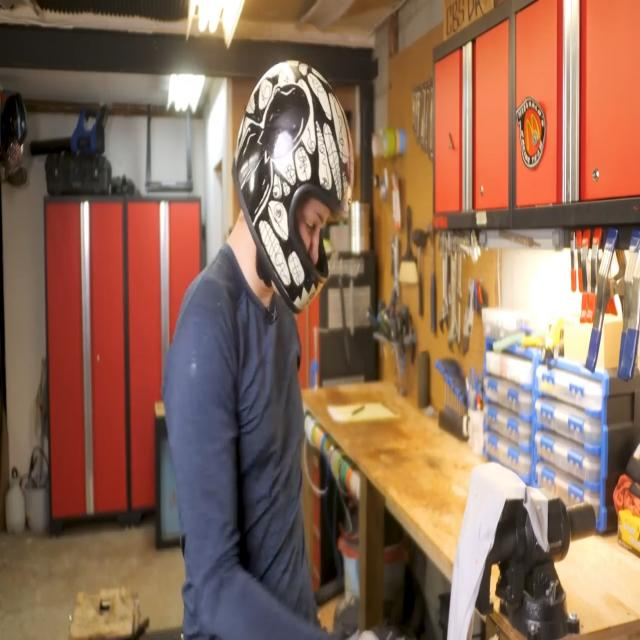Helmet_Wearer: (224, 56, 352, 337)
Person: (164, 54, 354, 640)
